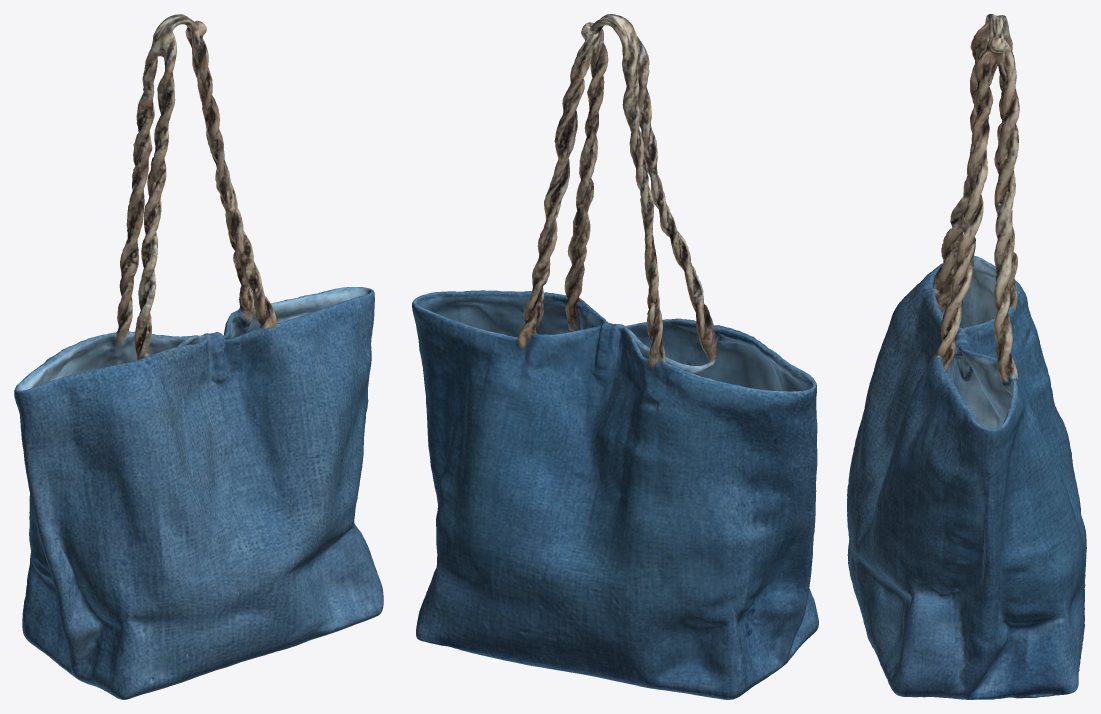
The model's file is tuixach-xanh-duong.glb.
3 renders of one model, left to right at view 1: azimuth 30°, elevation 25°; view 2: azimuth 150°, elevation 25°; view 3: azimuth 270°, elevation 25°, orthographic. The views are drawn at different scales.
Parts seen in each view (by area): view 1: geometry_0; view 2: geometry_0; view 3: geometry_0.
Boxes of the visible parts, box(x1,y1,x2,y2) form: geometry_0: box(14, 14, 383, 699); geometry_0: box(412, 14, 818, 699); geometry_0: box(847, 14, 1086, 699).
Bounding box in the file's own units: 0.6295 × 1 × 0.3513.
Materials: 1 (1 with a texture image).
